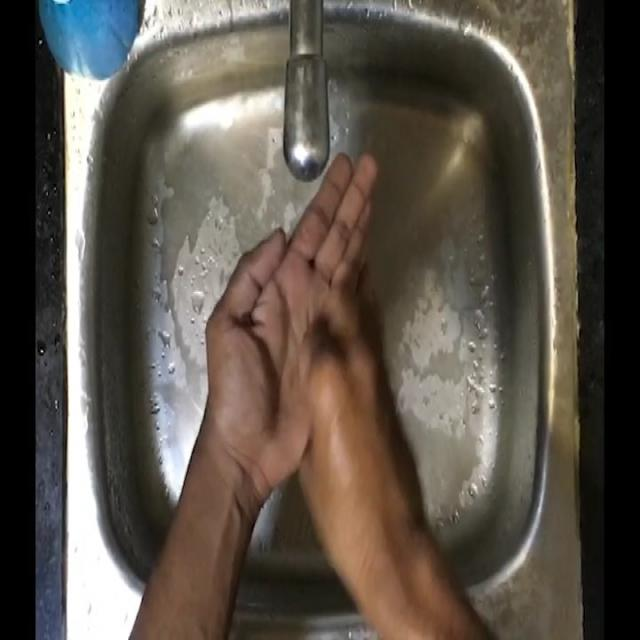step_6: (200, 143, 398, 536)
